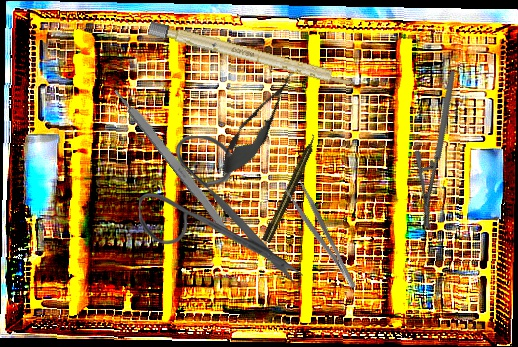Dressing Forceps: (283, 178, 359, 295)
Handpiece: (260, 133, 321, 244)
Iris Scissors: (139, 136, 303, 284)
Micro Scissor: (210, 60, 308, 186)
Needle Holder: (378, 70, 502, 229)
Scalpel Handle: (112, 85, 235, 237), (147, 20, 357, 90)
